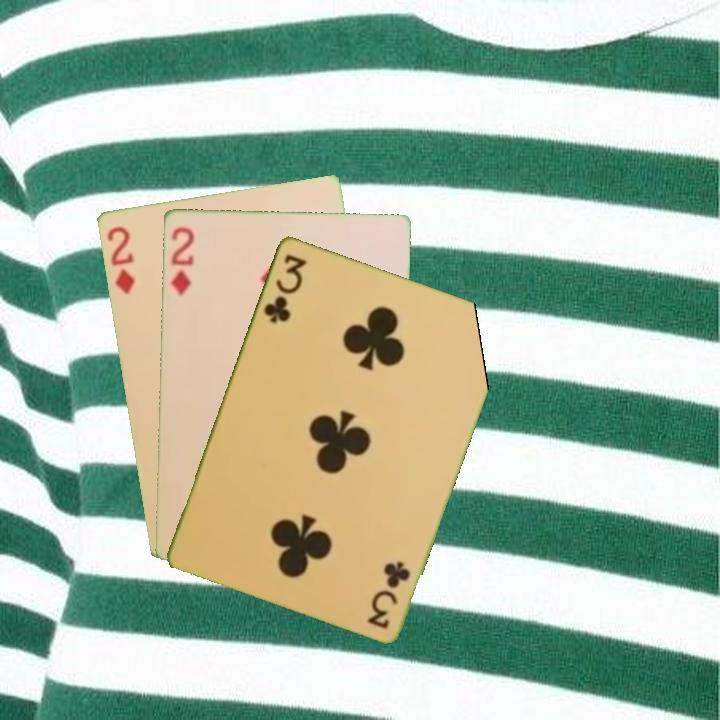2d: (103, 222, 137, 297), (167, 222, 196, 298)
3c: (260, 250, 309, 326), (364, 557, 414, 631)
